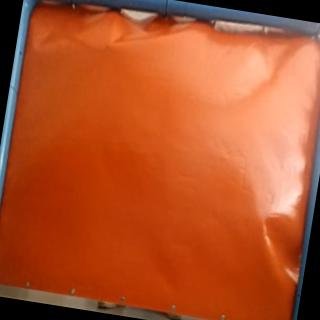Hit-hRxx: (101, 37, 117, 54)
